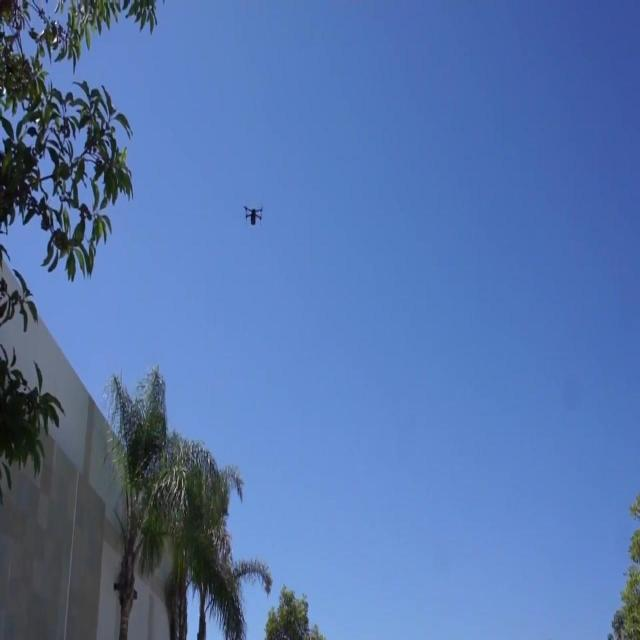UAV: (242, 205, 264, 226)
